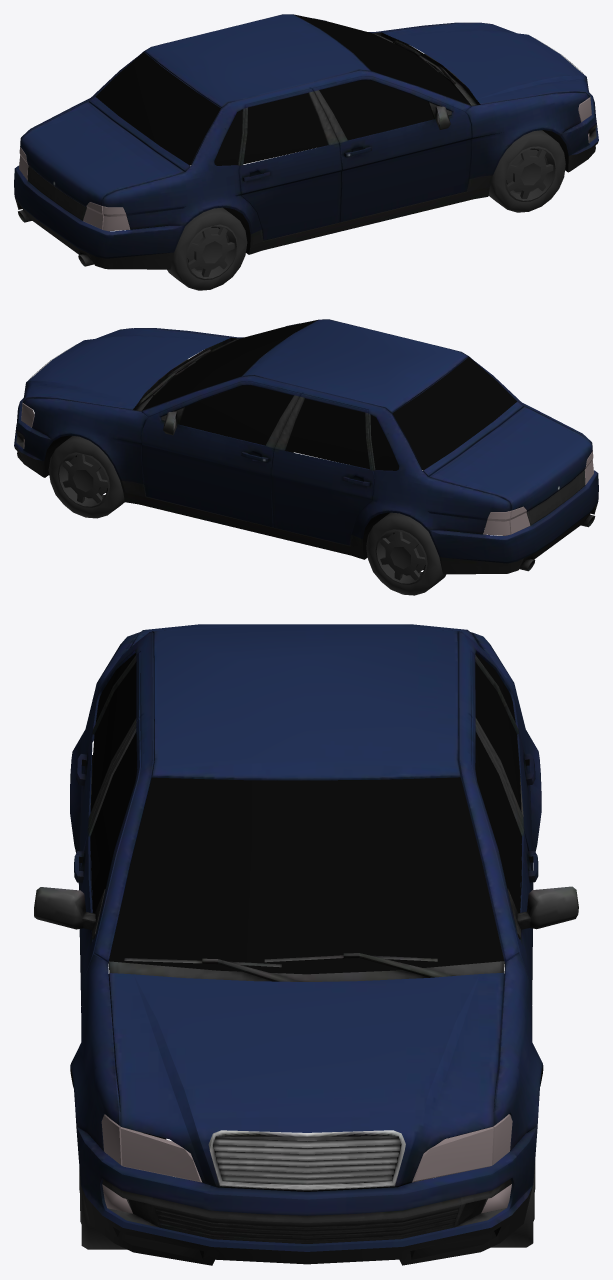
The model's file is pc-sedan-navy.lod0.glb.
3 views of the same model, one above another, from view 1: azimuth 30°, elevation 25°; view 2: azimuth 150°, elevation 25°; view 3: azimuth 270°, elevation 25° (orthographic). The views are drawn at different scales.
Visible parts, largest first — view 1: Sedan Body_Body_0, Sedan Body_Glass_0; view 2: Sedan Body_Body_0, Sedan Body_Glass_0; view 3: Sedan Body_Body_0, Sedan Body_Glass_0.
Boxes of the visible parts, x1,y1,x2,y2 form: Sedan Body_Body_0: (14, 14, 598, 269); Sedan Body_Glass_0: (19, 14, 591, 290); Sedan Body_Body_0: (14, 319, 598, 574); Sedan Body_Glass_0: (21, 320, 593, 595); Sedan Body_Body_0: (34, 624, 578, 1265); Sedan Body_Glass_0: (79, 653, 535, 1249).
Bounding box in the file's own units: 4.36 × 1.34 × 1.94.
Materials: 2 (1 with a texture image).
